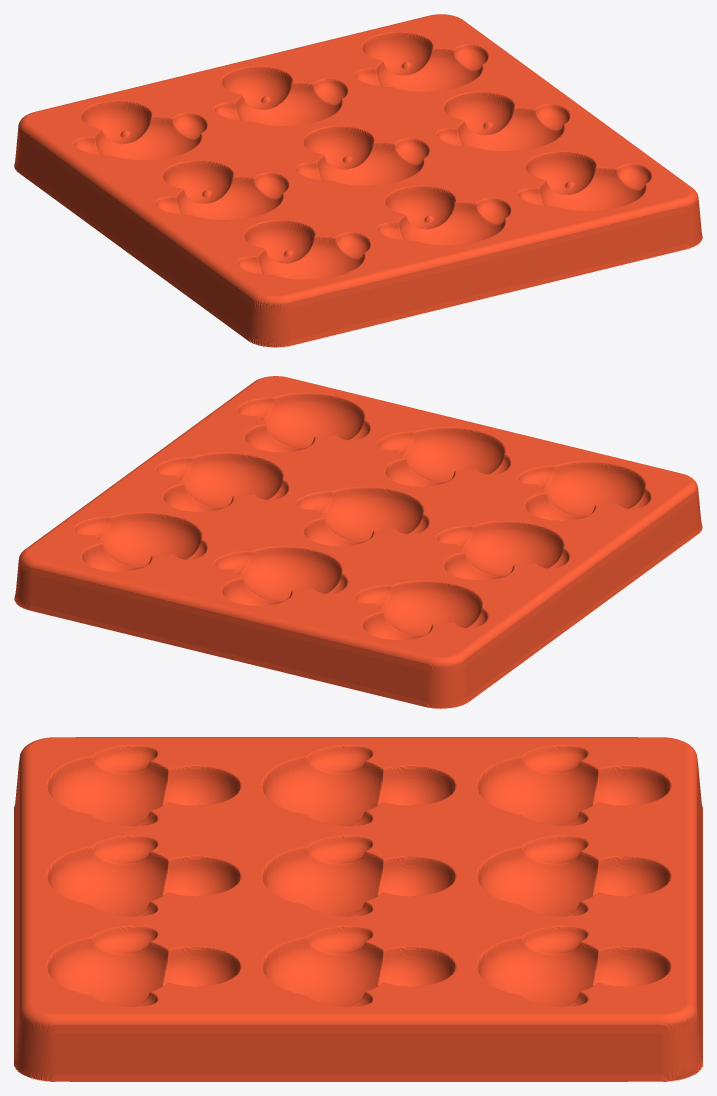
File: mold.glb
3 views of the same model, one above another, from view 1: azimuth 30°, elevation 25°; view 2: azimuth 150°, elevation 25°; view 3: azimuth 270°, elevation 25° (orthographic). The views are drawn at different scales.
Parts seen in each view (by area): view 1: geometry_0; view 2: geometry_0; view 3: geometry_0.
Part boxes in pixels (left/top/right/bottom): geometry_0: left=14, top=14, right=702, bottom=347; geometry_0: left=14, top=376, right=702, bottom=708; geometry_0: left=14, top=737, right=702, bottom=1081.
Bounding box in the file's own units: 0.1469 × 0.0145 × 0.1477.
